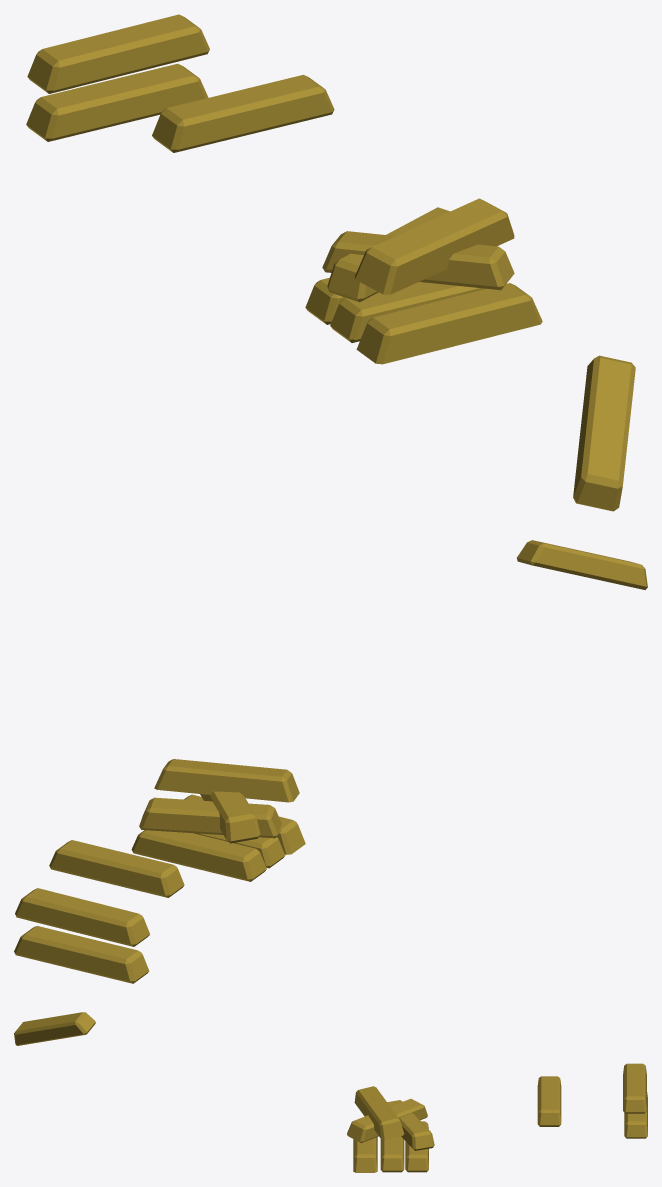
File: Gold Bars YakuP.fbx
3 renders of one model, top to bottom at view 1: azimuth 30°, elevation 25°; view 2: azimuth 150°, elevation 25°; view 3: azimuth 270°, elevation 25°, orthographic. The views are drawn at different scales.
Visible parts, largest first — view 1: Cube; view 2: Cube; view 3: Cube.
Part boxes in pixels (<box>): Cube: <box>26,14,635,511</box>; Cube: <box>14,540,647,983</box>; Cube: <box>14,1012,647,1172</box>.
Size of the model in its own units: 347 by 242 by 1276.
